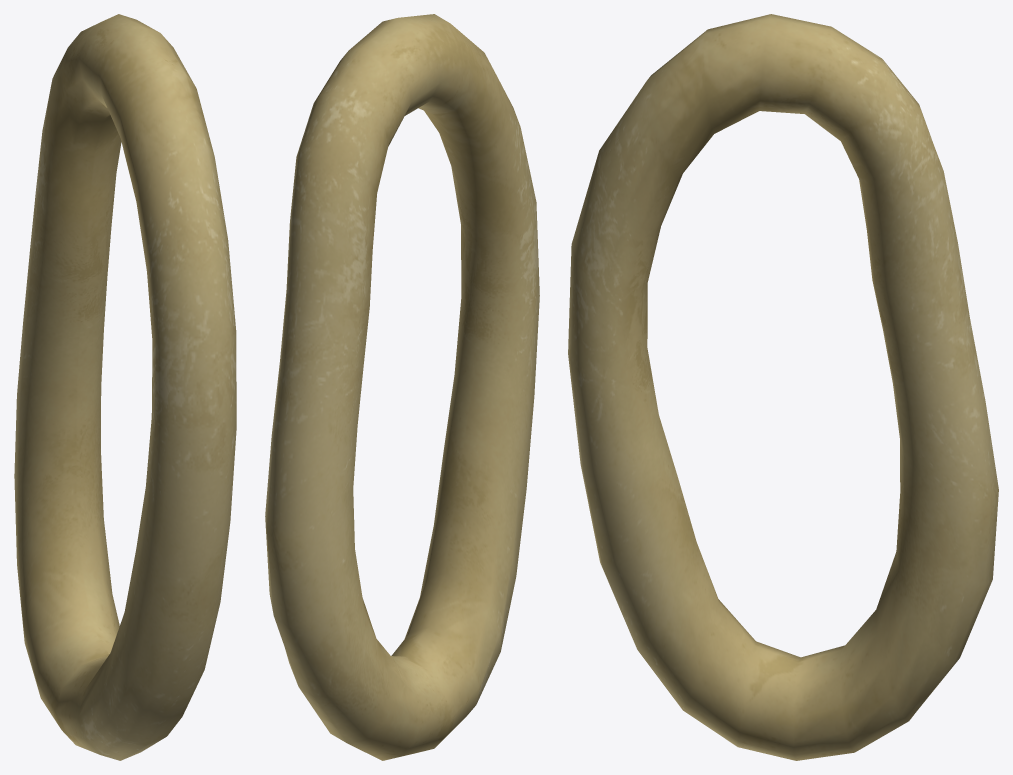
Rendered from chainlink.fbx.
3 views of the same model, side by side, from view 1: azimuth 30°, elevation 25°; view 2: azimuth 150°, elevation 25°; view 3: azimuth 270°, elevation 25° (orthographic). The views are drawn at different scales.
Visible parts, largest first — view 1: Object.011; view 2: Object.011; view 3: Object.011.
Part boxes in pixels (x1,y1,x2,y2): Object.011: (14,14,236,760); Object.011: (265,14,539,760); Object.011: (568,14,998,760).
Bounding box in the file's own units: 19.08 × 116 × 60.08.
